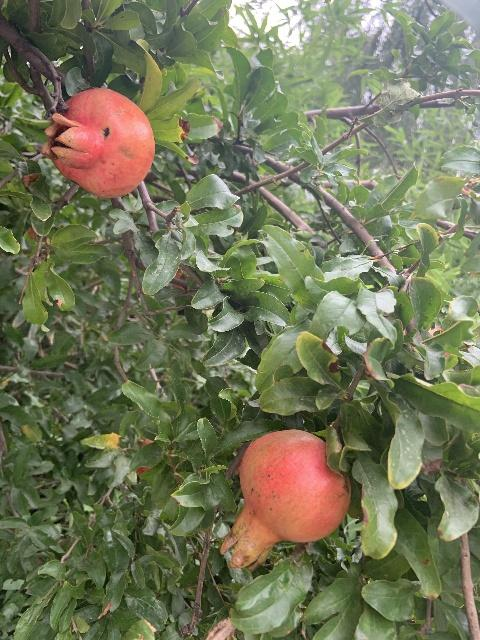ripe: (218, 429, 351, 570), (40, 88, 155, 198)
